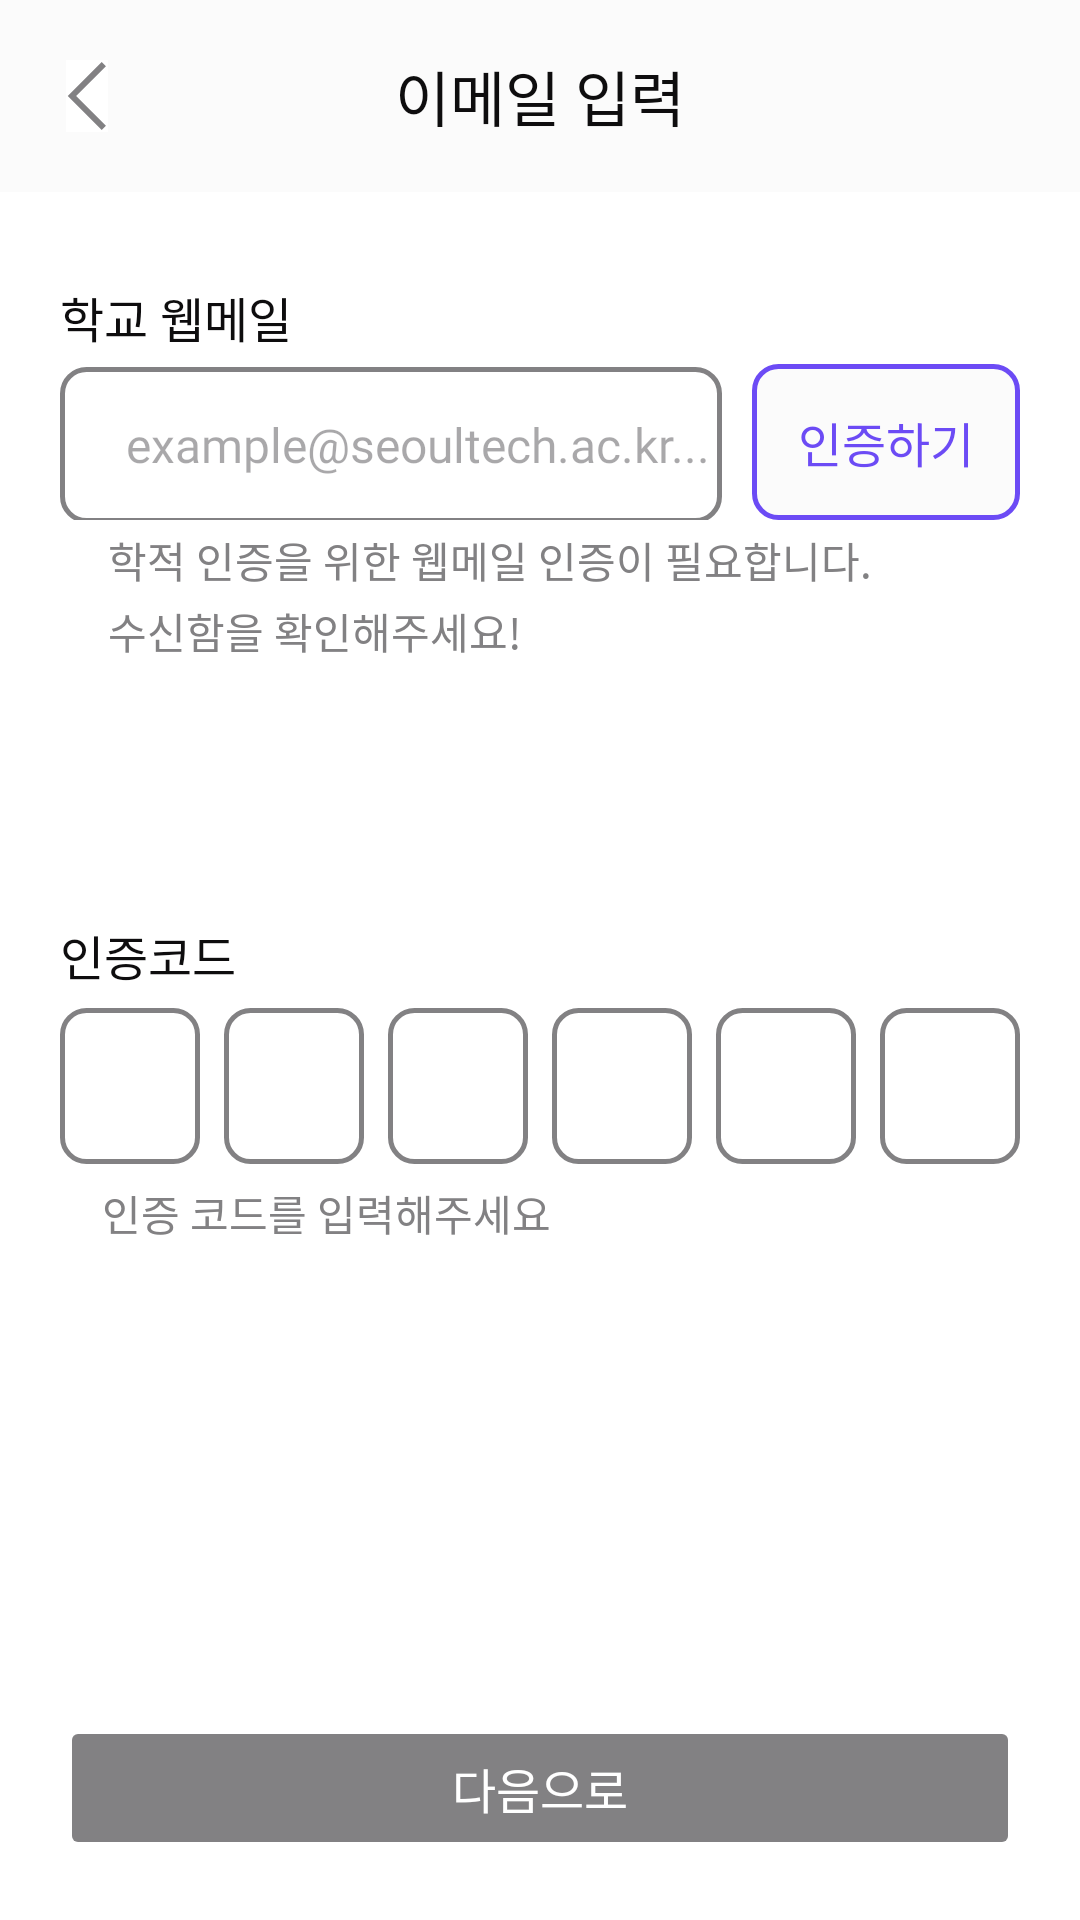

Icon bounding boxes for this 1080 × 1920 phone screenshot, format (x1, y1, x2, y2):
navigation: (68, 62, 106, 130)
